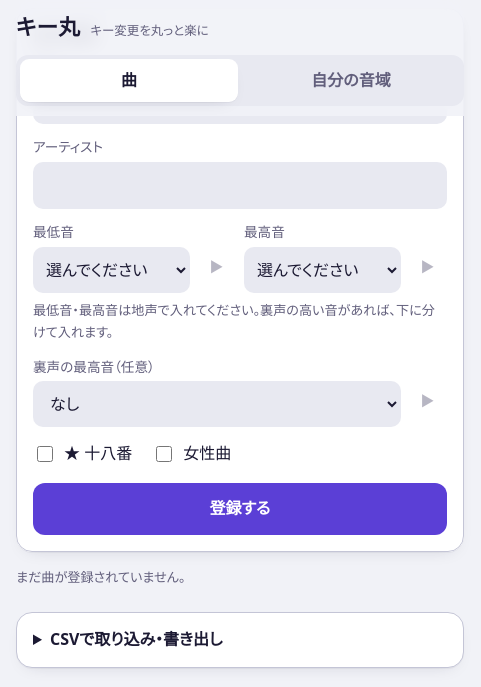
Scenario: CSV › 曲が0曲なら「CSVを書き出す」は押せない
(page scrolled)
Click the heading "CSVで取り込み・書き出し" at (136, 639), box [50,628,223,650]
(page scrolled)
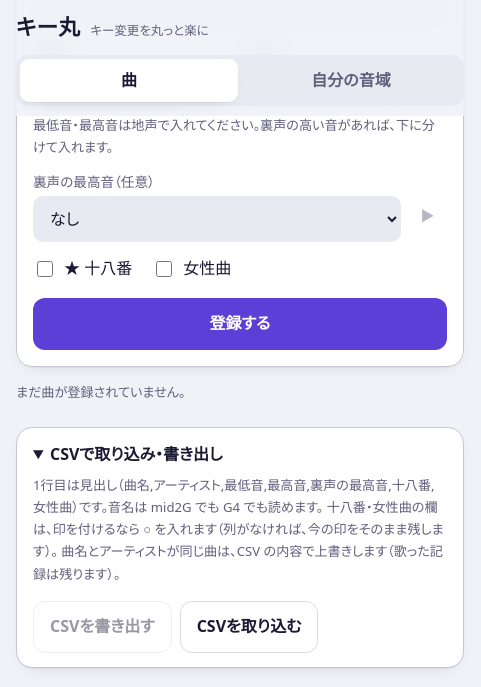
Result: the button "CSVを書き出す" is disabled at [33,601,172,653]
